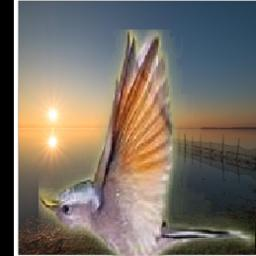Cuckoo: (40, 30, 256, 256)
